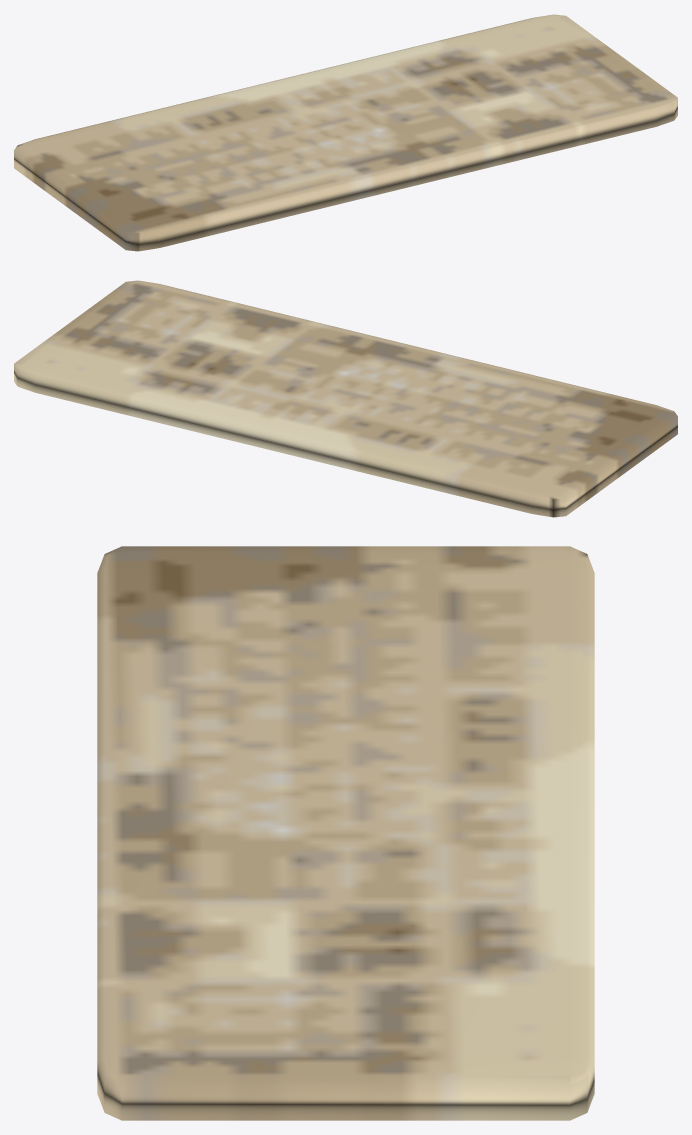
File: keyboard.glb
3 renders of one model, top to bottom at view 1: azimuth 30°, elevation 25°; view 2: azimuth 150°, elevation 25°; view 3: azimuth 270°, elevation 25°, orthographic. The views are drawn at different scales.
Parts seen in each view (by area): view 1: Cube.001; view 2: Cube.001; view 3: Cube.001.
Boxes of the visible parts, x1,y1,x2,y2 form: Cube.001: (14, 14, 677, 251); Cube.001: (14, 280, 677, 517); Cube.001: (97, 546, 594, 1120).
Bounding box in the file's own units: 1.35 × 0.0465 × 0.5269.
1 material, 1 textured.
